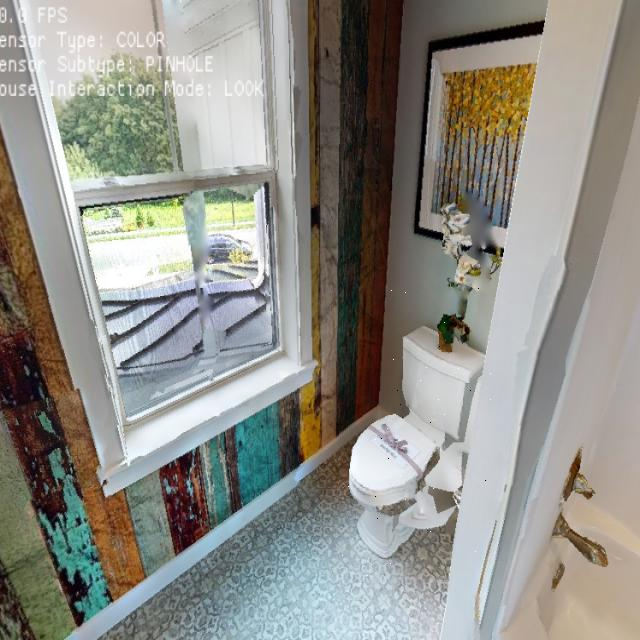toilet: (339, 279, 492, 582)
